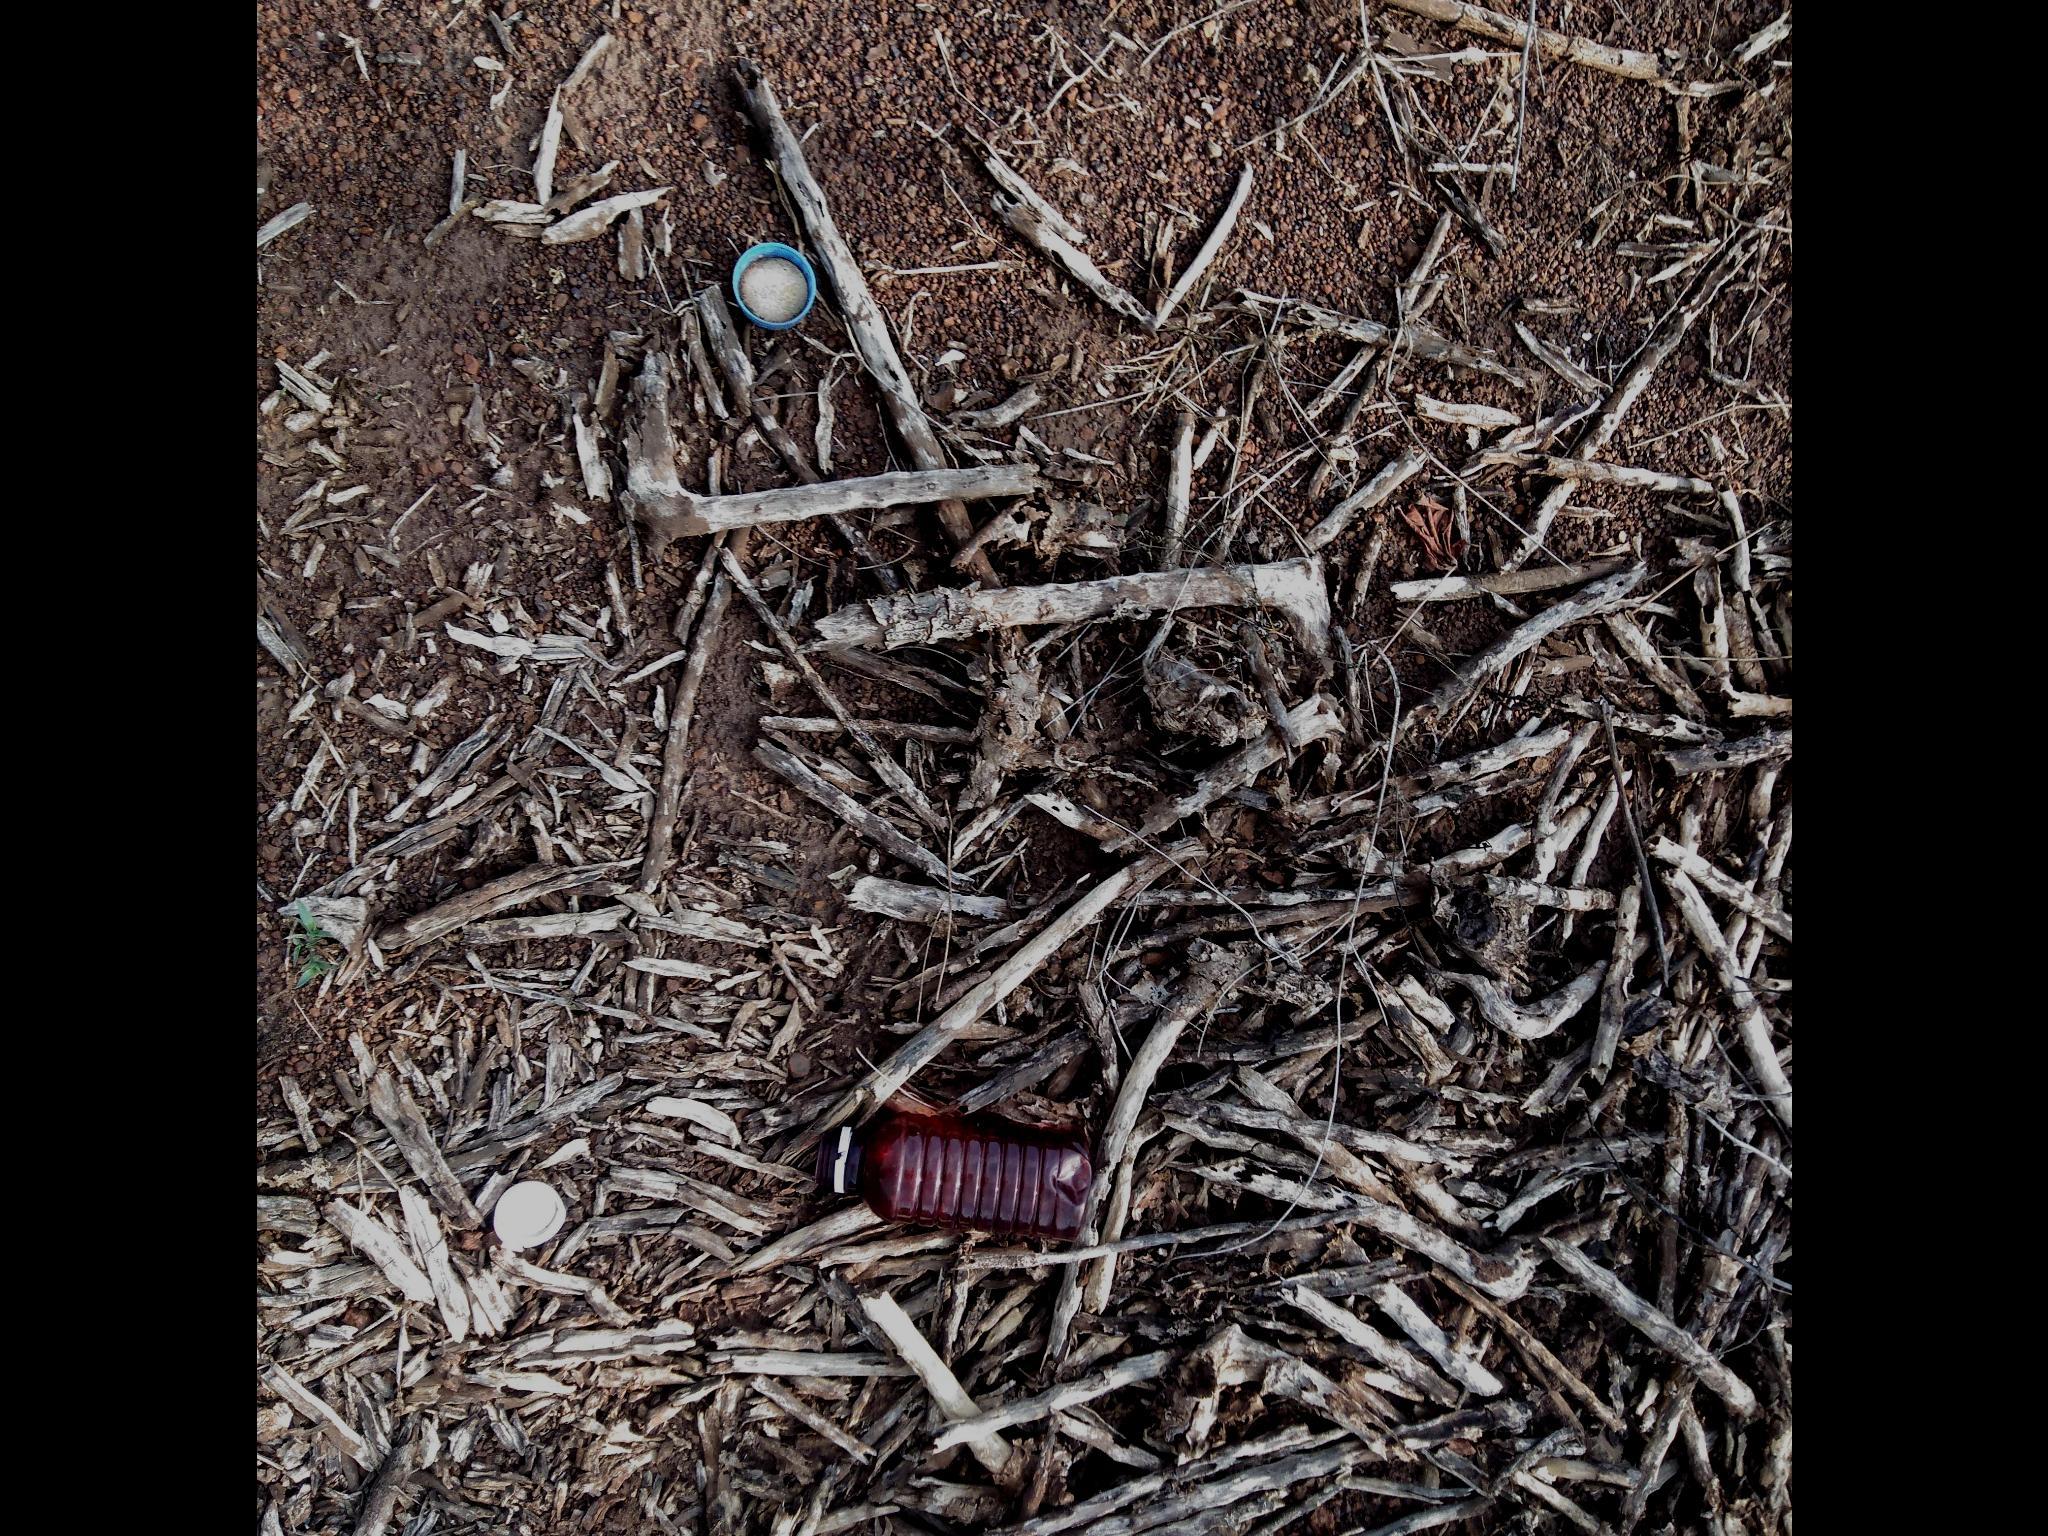bottle: (824, 1104, 1101, 1234)
